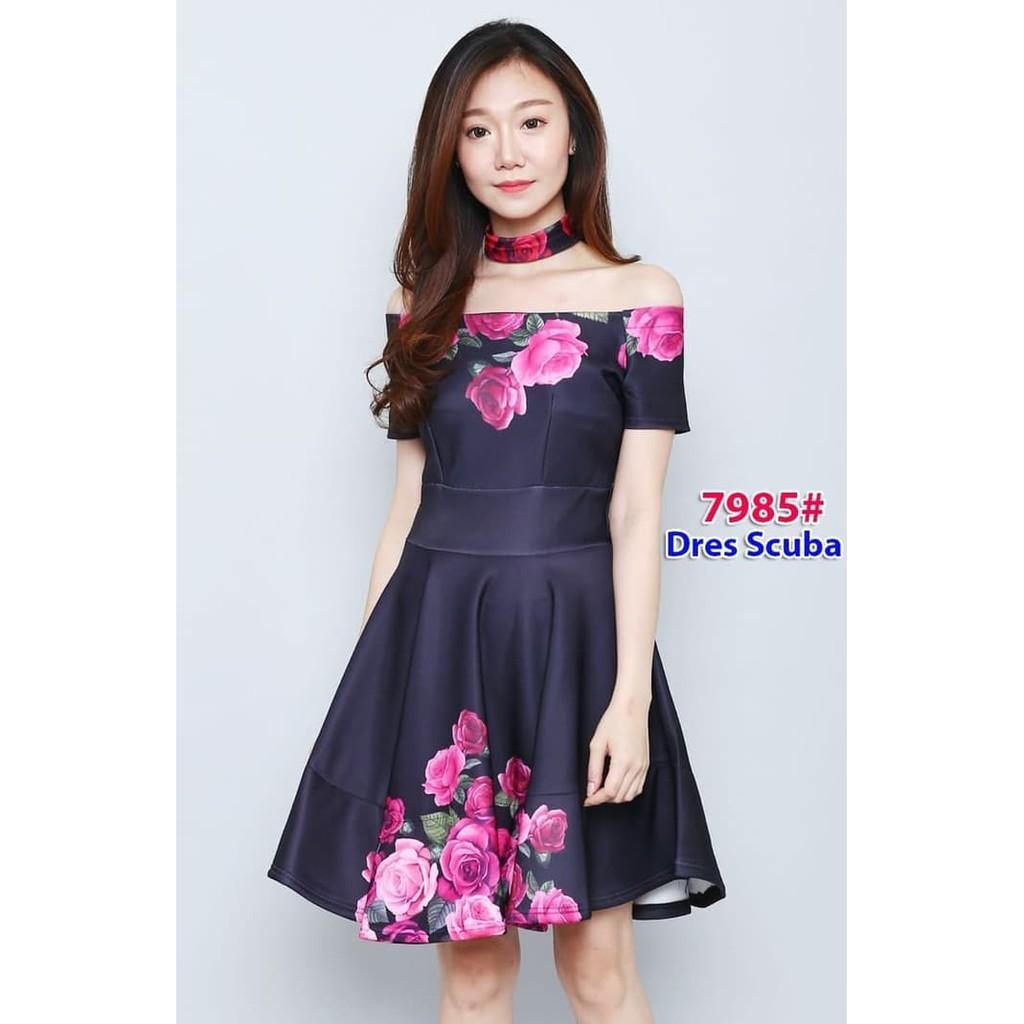dress: (274, 210, 689, 968)
